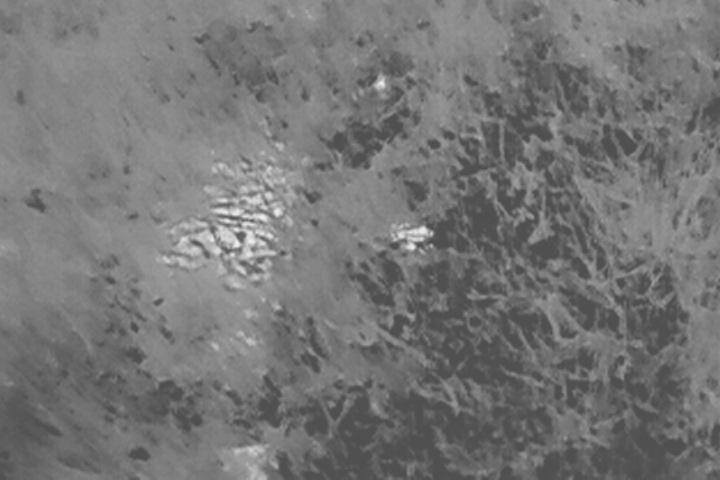landmine: (159, 154, 301, 281)
